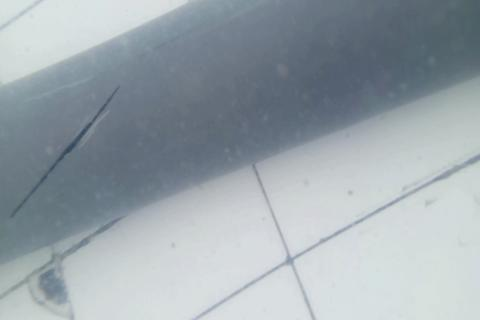keretakan: (9, 86, 121, 217)
